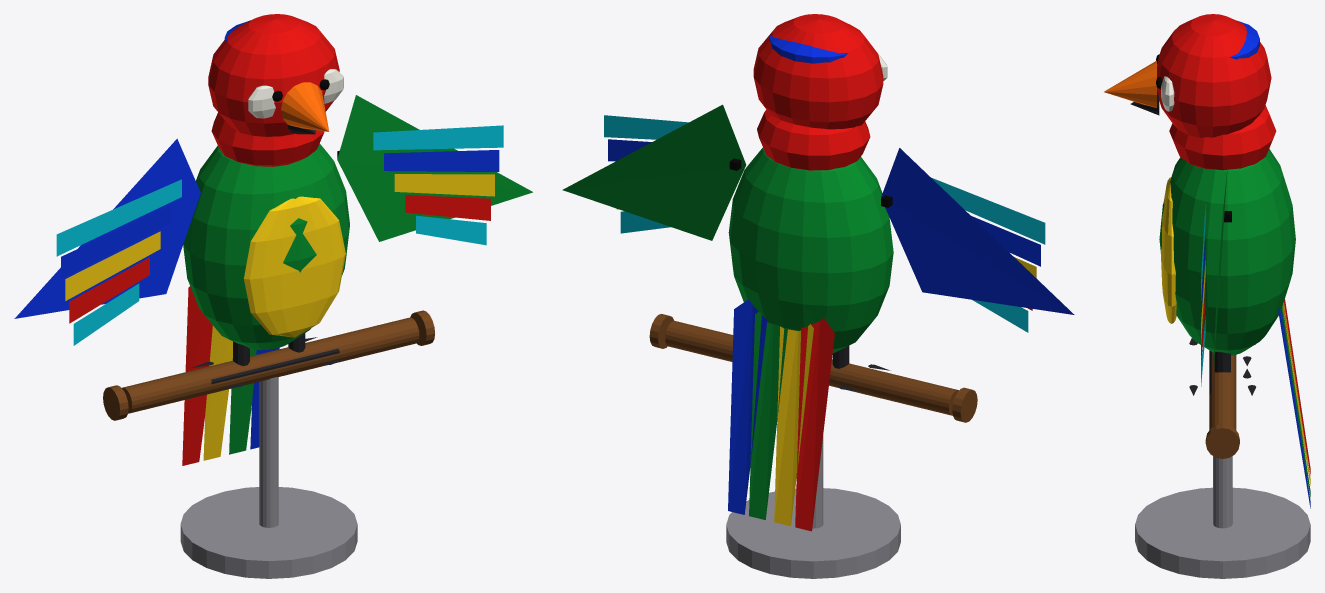
The model's file is colorful_parrot_on_perch_stand.obj.
3 views of the same model, side by side, from view 1: azimuth 30°, elevation 25°; view 2: azimuth 150°, elevation 25°; view 3: azimuth 270°, elevation 25° (orthographic).
Parts seen in each view (by area): view 1: Body_rounded_green_chest, Stand_round_weighted_base, Belly_yellow_front_patch, Head_round_red, Right_wing_large_layered_feathers, Perch_horizontal_wooden_rod, Left_wing_large_layered_feathers, Neck_short_red_collar, Stand_vertical_metal_pole, Tail_long_colorful_feather_1, Right_wing_feather_strip_1, Left_wing_feather_strip_1 (+14 smaller); view 2: Body_rounded_green_chest, Left_wing_large_layered_feathers, Right_wing_large_layered_feathers, Head_round_red, Stand_round_weighted_base, Perch_horizontal_wooden_rod, Tail_long_colorful_feather_1, Tail_long_colorful_feather_4, Tail_long_colorful_feather_3, Tail_long_colorful_feather_2, Neck_short_red_collar, Left_wing_feather_strip_1 (+6 smaller); view 3: Body_rounded_green_chest, Stand_round_weighted_base, Head_round_red, Neck_short_red_collar, Perch_horizontal_wooden_rod, Belly_yellow_front_patch, Stand_vertical_metal_pole, Upper_curved_beak_orange, Right_perch_end_cap, Tail_long_colorful_feather_4, Head_top_blue_cap, Tail_long_colorful_feather_3 (+5 smaller).
Boxes of the visible parts, left/top/right/bottom form: Body_rounded_green_chest: left=183, top=143, right=349, bottom=350; Stand_round_weighted_base: left=180, top=487, right=357, bottom=578; Belly_yellow_front_patch: left=244, top=196, right=345, bottom=337; Head_round_red: left=208, top=14, right=339, bottom=137; Right_wing_large_layered_feathers: left=337, top=95, right=532, bottom=241; Perch_horizontal_wooden_rod: left=122, top=317, right=419, bottom=413; Left_wing_large_layered_feathers: left=14, top=138, right=200, bottom=318; Neck_short_red_collar: left=211, top=112, right=324, bottom=166; Stand_vertical_metal_pole: left=259, top=377, right=278, bottom=527; Tail_long_colorful_feather_1: left=182, top=286, right=212, bottom=465; Right_wing_feather_strip_1: left=373, top=125, right=503, bottom=150; Left_wing_feather_strip_1: left=56, top=179, right=181, bottom=256; Body_rounded_green_chest: left=728, top=147, right=893, bottom=353; Left_wing_large_layered_feathers: left=881, top=148, right=1074, bottom=314; Right_wing_large_layered_feathers: left=562, top=104, right=746, bottom=240; Head_round_red: left=753, top=14, right=883, bottom=129; Stand_round_weighted_base: left=726, top=488, right=900, bottom=578; Perch_horizontal_wooden_rod: left=665, top=320, right=958, bottom=415; Tail_long_colorful_feather_1: left=795, top=318, right=834, bottom=531; Tail_long_colorful_feather_4: left=728, top=299, right=767, bottom=514; Tail_long_colorful_feather_3: left=749, top=311, right=787, bottom=519; Tail_long_colorful_feather_2: left=774, top=324, right=813, bottom=526; Neck_short_red_collar: left=757, top=109, right=870, bottom=170; Left_wing_feather_strip_1: left=932, top=178, right=1045, bottom=244; Body_rounded_green_chest: left=1159, top=149, right=1295, bottom=355; Stand_round_weighted_base: left=1135, top=487, right=1310, bottom=578; Head_round_red: left=1157, top=14, right=1271, bottom=137; Neck_short_red_collar: left=1169, top=105, right=1276, bottom=170; Perch_horizontal_wooden_rod: left=1209, top=350, right=1236, bottom=429; Belly_yellow_front_patch: left=1160, top=177, right=1176, bottom=323; Stand_vertical_metal_pole: left=1213, top=456, right=1232, bottom=528; Upper_curved_beak_orange: left=1104, top=60, right=1156, bottom=107; Right_perch_end_cap: left=1205, top=424, right=1239, bottom=458; Tail_long_colorful_feather_4: left=1277, top=307, right=1310, bottom=508; Head_top_blue_cap: left=1230, top=20, right=1259, bottom=59; Tail_long_colorful_feather_3: left=1280, top=306, right=1310, bottom=498.
Bounding box in the file's own units: 2.44 × 2.36 × 0.85.
